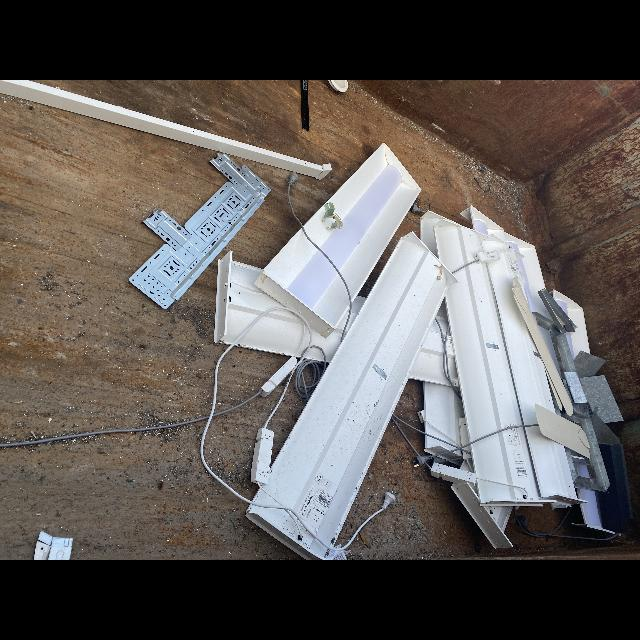Ferrous Metal: (263, 231, 460, 548), (0, 80, 331, 179), (304, 142, 422, 302), (445, 262, 523, 443), (482, 234, 555, 424), (252, 228, 350, 339), (512, 277, 572, 415), (214, 250, 285, 345), (470, 428, 556, 506), (525, 426, 588, 507), (245, 504, 332, 560), (504, 232, 554, 322), (451, 482, 514, 550), (234, 310, 303, 357), (433, 219, 490, 273), (423, 381, 470, 446), (535, 404, 590, 458), (549, 289, 590, 359), (409, 319, 451, 386), (310, 307, 350, 363), (420, 210, 464, 258), (460, 205, 506, 242), (612, 445, 634, 521), (580, 492, 616, 535), (343, 295, 366, 339), (425, 422, 459, 447), (424, 434, 458, 455), (446, 328, 458, 378), (252, 487, 281, 506), (300, 80, 310, 131), (435, 316, 449, 340), (305, 347, 324, 362), (437, 452, 463, 459), (460, 460, 472, 473), (450, 459, 464, 466), (574, 463, 579, 477)
Galvanized Steel: (131, 154, 271, 308), (531, 288, 624, 492), (33, 532, 72, 560)
